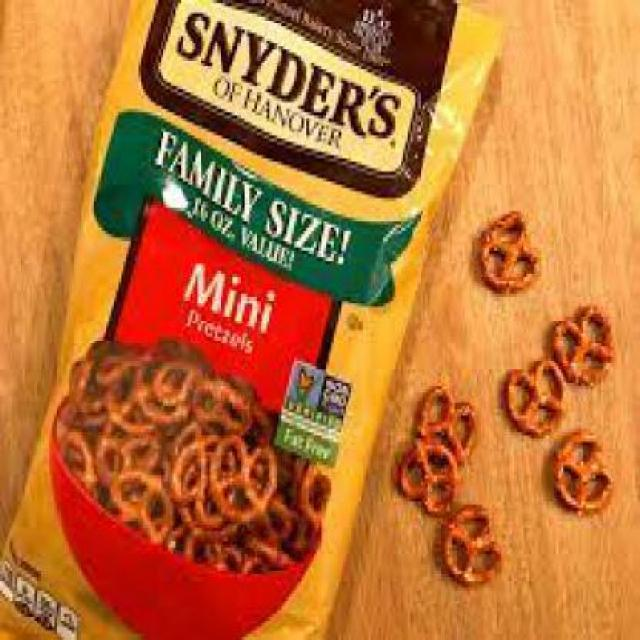Salatini: (20, 3, 497, 637)
